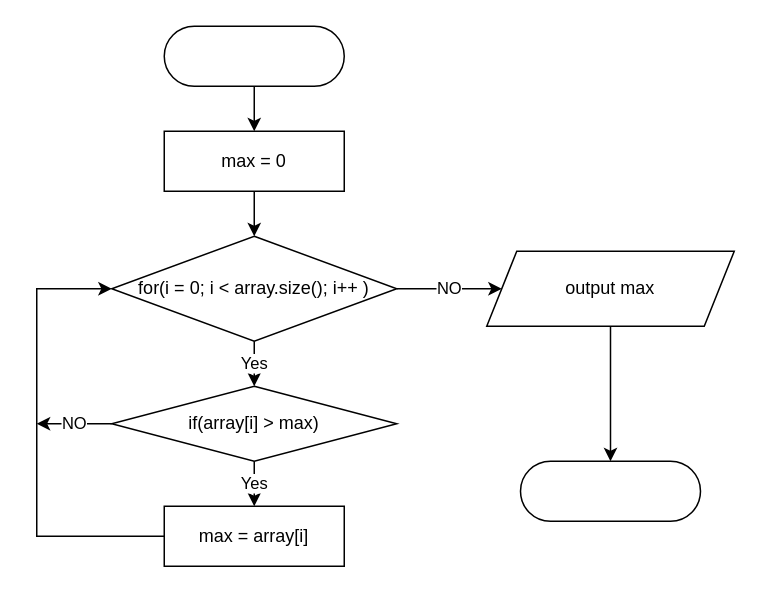
The diagram is 761 pixels wide and 593 high, and some of its shapes have lost their labels. The centre of each missing label's shape, as x and y in pixels:
End: point 609,490
Start: point 253,55
